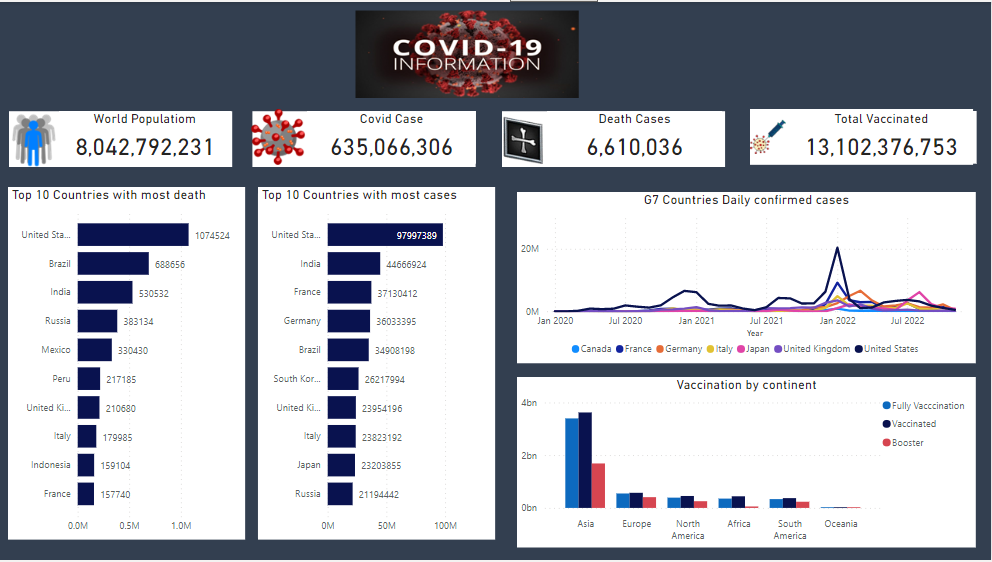

This screenshot's page, from the dashboard's own definition file:
{"tool":"powerbi","page":{"name":"Page 1","canvas":[1280,720],"ordinal":0},"visuals":[{"type":"card","title":"Death Cases","fields":{"Values":["Sum(Sheet1.Total_death)"]},"box":[707.7,140,226.2,67.7],"z":0},{"type":"card","title":"Covid Case","fields":{"Values":["Sum(Sheet1.total Cases)"]},"box":[396.9,140,218.5,67.7],"z":1000},{"type":"card","title":"Total Vaccinated","fields":{"Values":["Sum(Sheet1.Total_vaccinated)"]},"box":[1015.4,140,246.2,67.7],"z":2000},{"type":"card","title":"World Populatiom","fields":{"Values":["Sum(Sheet1.Population)"]},"box":[76.9,140,221.5,67.7],"z":3000},{"type":"clusteredBarChart","title":"Top 10 Countries with most death ","fields":{"Category":["first data.location"],"Y":["Sum(first data.Total_death)"]},"box":[11.3,238.1,306.1,455],"z":4000},{"type":"clusteredBarChart","title":"Top 10 Countries with most cases","fields":{"Category":["first data.location"],"Y":["Sum(first data.total Cases)"]},"box":[334.5,238.1,306.1,455],"z":5000},{"type":"lineChart","title":"G7 Countries Daily confirmed cases","fields":{"Y":["Sum(Sheet1.new_cases)"],"Series":["Sheet1.location"],"Category":["Sheet1.date.Variation.Date Hierarchy.Year","Sheet1.date.Variation.Date Hierarchy.Quarter","Sheet1.date.Variation.Date Hierarchy.Month"]},"box":[669,245.2,592.4,221.1],"z":5001},{"type":"clusteredColumnChart","title":"Vaccination by continent","fields":{"Y":["Sum(Sheet1.people_fully_vaccinated)","Sum(Sheet1.People_vaccinated)","Sum(Sheet1.total_booster)"],"Category":["Sheet1.continent"]},"box":[669,483.3,592.4,219.7],"z":5002}]}

Visuals, with their boxes in screenshot pixels (x1, y1, x2, y2), scaled from the page's 1280x720 canvas onto the 992x562 screenshot:
"Death Cases" card: x1=548, y1=109, x2=724, y2=162
"Covid Case" card: x1=308, y1=109, x2=477, y2=162
"Total Vaccinated" card: x1=787, y1=109, x2=978, y2=162
"World Populatiom" card: x1=60, y1=109, x2=231, y2=162
"Top 10 Countries with most death " clusteredBarChart: x1=9, y1=186, x2=246, y2=541
"Top 10 Countries with most cases" clusteredBarChart: x1=259, y1=186, x2=496, y2=541
"G7 Countries Daily confirmed cases" lineChart: x1=518, y1=191, x2=978, y2=364
"Vaccination by continent" clusteredColumnChart: x1=518, y1=377, x2=978, y2=549
